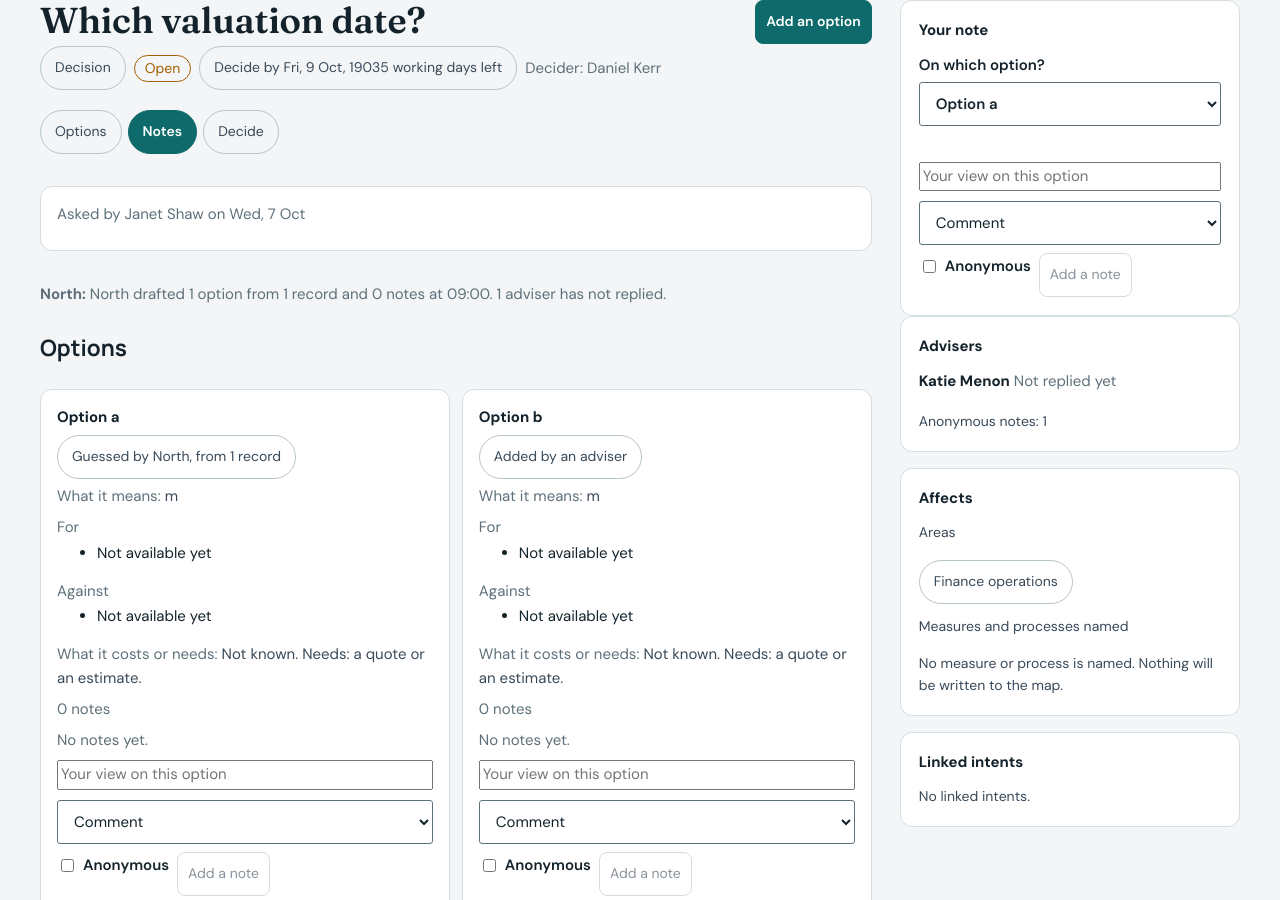
W2F7: an adviser has a note box on the Notes view and Add an option; a saved note marks the adviser as replied
(page scrolled)
Expected: the text "Your note" is shown, 919,19 -> 988,42
Expected: the button "Add an option" is shown, 755,0 -> 872,44
In the field with placeholder "Your view on this option" below "On which option?": [1070, 176] box 919,162 -> 1221,191, type "Fine"
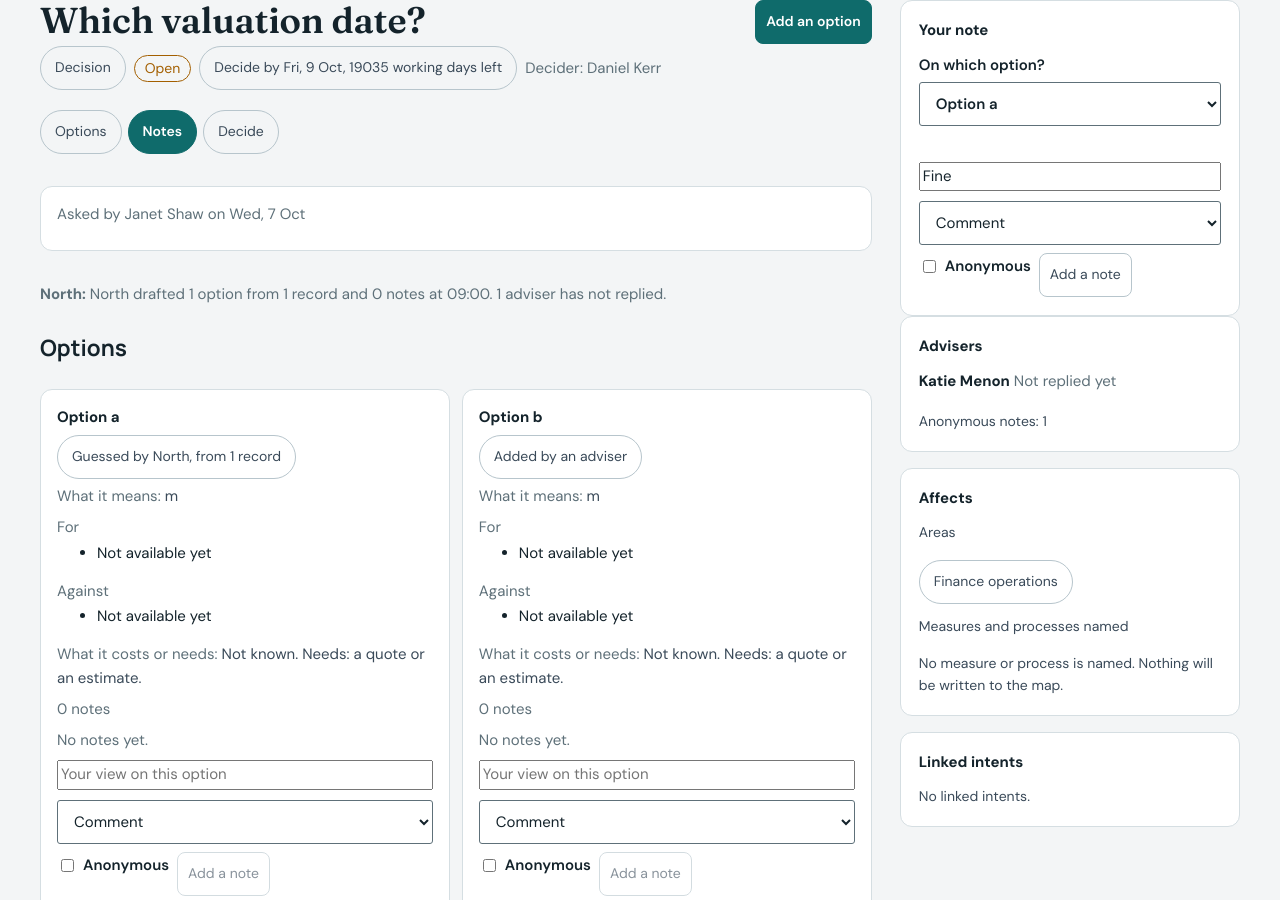
Click the button "Add a note" below "On which option?": [1085, 275] box 1039,253 -> 1132,297
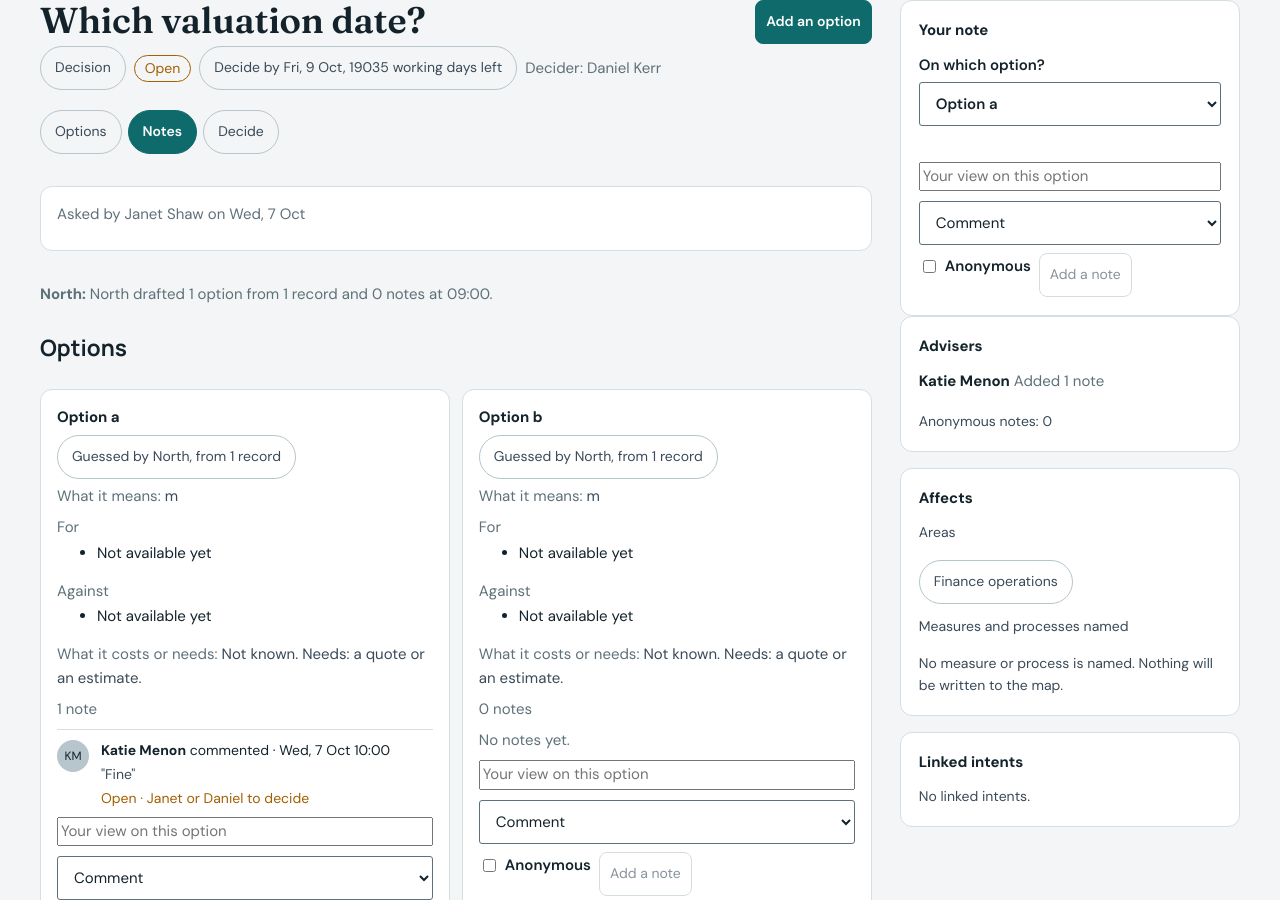
Expected: the text "Added 1 note" is shown, 1014,371 -> 1104,391
